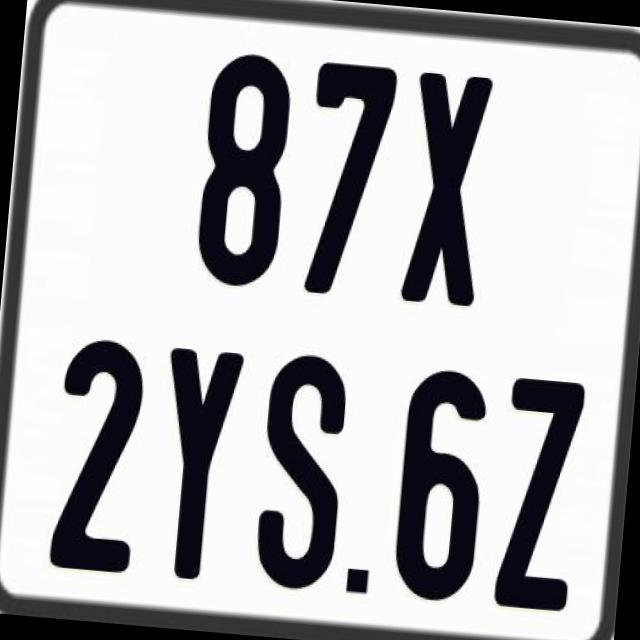2: (44, 332, 146, 576)
6: (388, 363, 493, 603)
7: (297, 58, 397, 298)
8: (194, 46, 296, 284)
S: (250, 352, 352, 600)
X: (401, 70, 498, 312)
Y: (149, 342, 244, 586)
Z: (492, 377, 586, 621)
